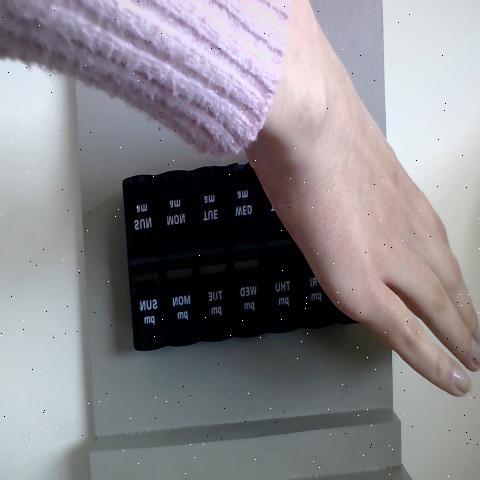Hands: (270, 49, 478, 414)
MON-am: (156, 172, 190, 253)
MON-pm: (160, 262, 196, 346)
SUN-am: (123, 177, 155, 255)
SUN-pm: (128, 262, 160, 348)
THU-pm: (263, 250, 297, 336)
TUE-am: (192, 166, 223, 252)
TUE-pm: (197, 262, 229, 342)
WED-am: (225, 167, 256, 249)
WED-pm: (228, 257, 264, 335)
